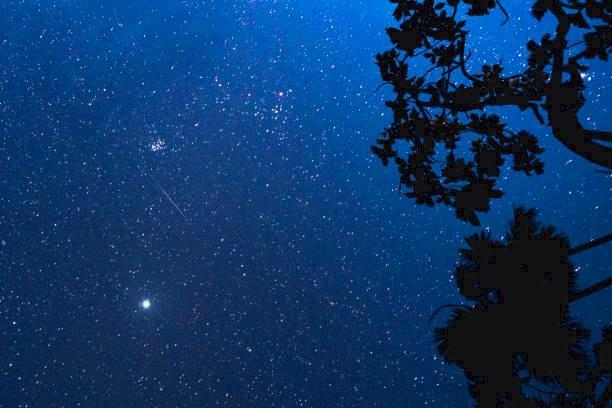meteorite: (134, 163, 197, 226)
